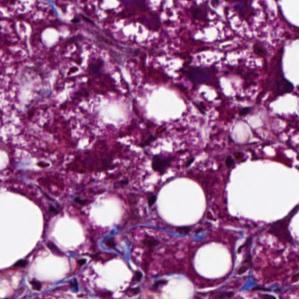inflammation: (175, 53, 226, 93), (63, 53, 110, 88)
